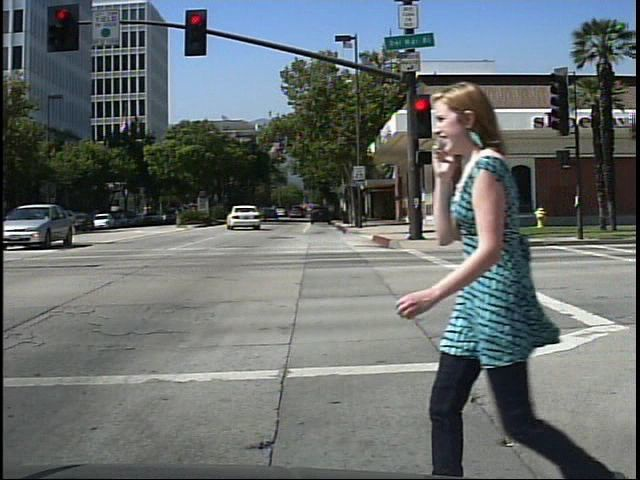person: (401, 82, 627, 480)
